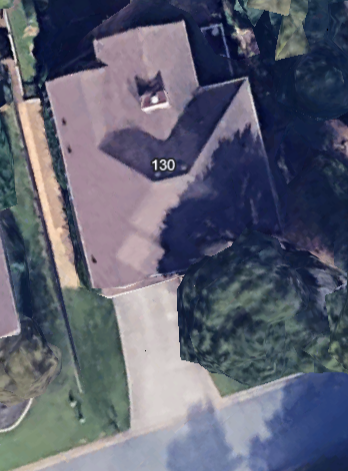driveway: (91, 276, 221, 434)
